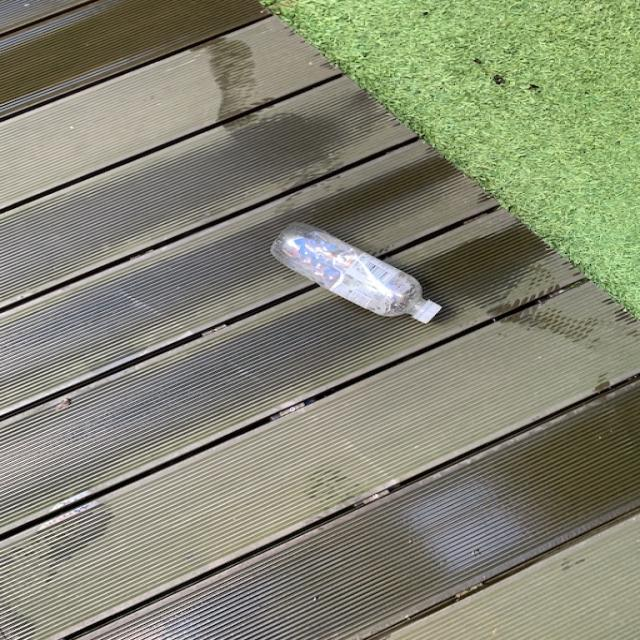Waste: (271, 223, 441, 323)
